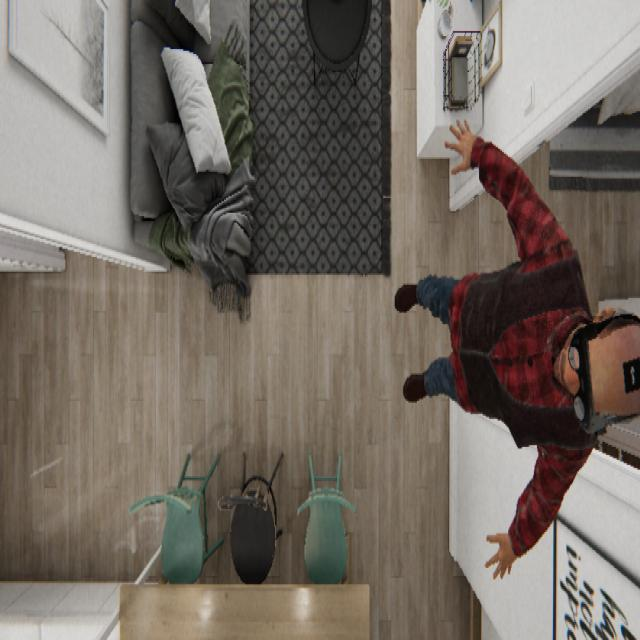Human: (394, 116, 638, 580)
